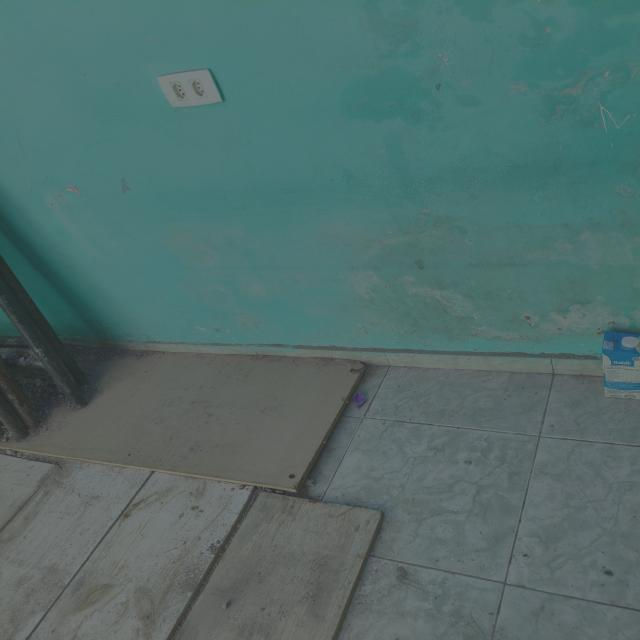Caixa de Leite: (598, 331, 636, 397)
